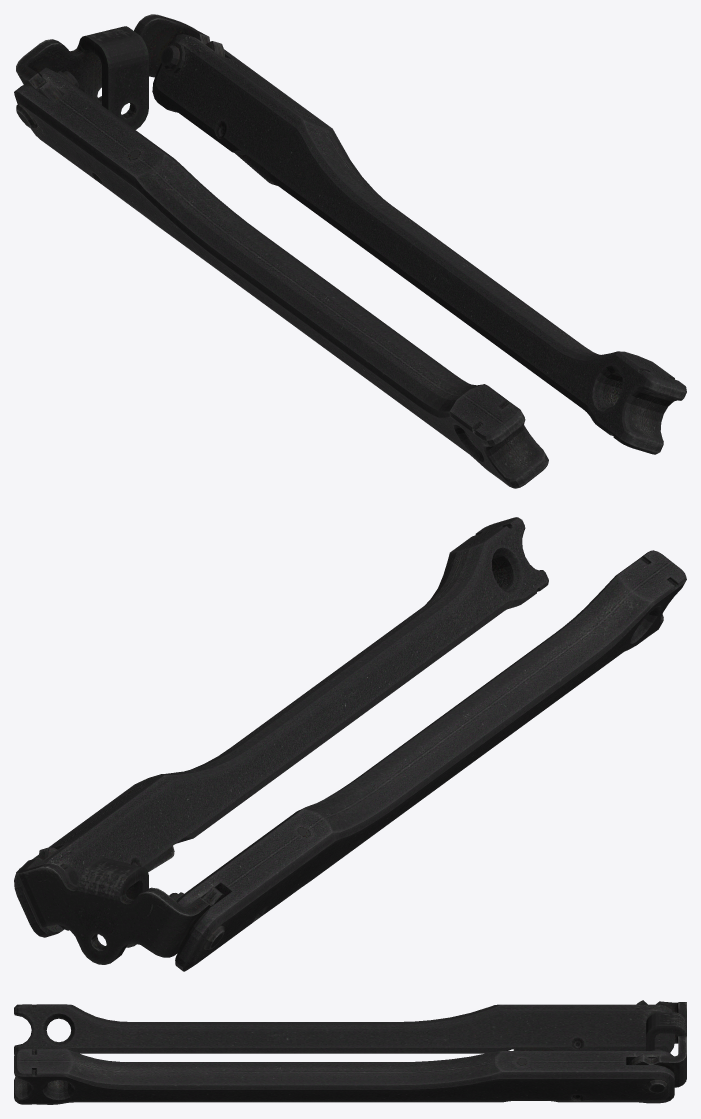
3 renders of one model, top to bottom at view 1: azimuth 30°, elevation 25°; view 2: azimuth 150°, elevation 25°; view 3: azimuth 270°, elevation 25°, orthographic. The views are drawn at different scales.
Visible parts, largest first — view 1: TW_622b397c9a3d4327e41843b6_PZ_Import; view 2: TW_622b397c9a3d4327e41843b6_PZ_Import; view 3: TW_622b397c9a3d4327e41843b6_PZ_Import.
Part boxes in pixels (x1,y1,x2,y2): TW_622b397c9a3d4327e41843b6_PZ_Import: (14, 14, 686, 488); TW_622b397c9a3d4327e41843b6_PZ_Import: (14, 517, 686, 971); TW_622b397c9a3d4327e41843b6_PZ_Import: (14, 1000, 686, 1104).
Bounding box in the file's own units: 0.0374 × 0.1568 × 0.0159.
1 material, 1 textured.
